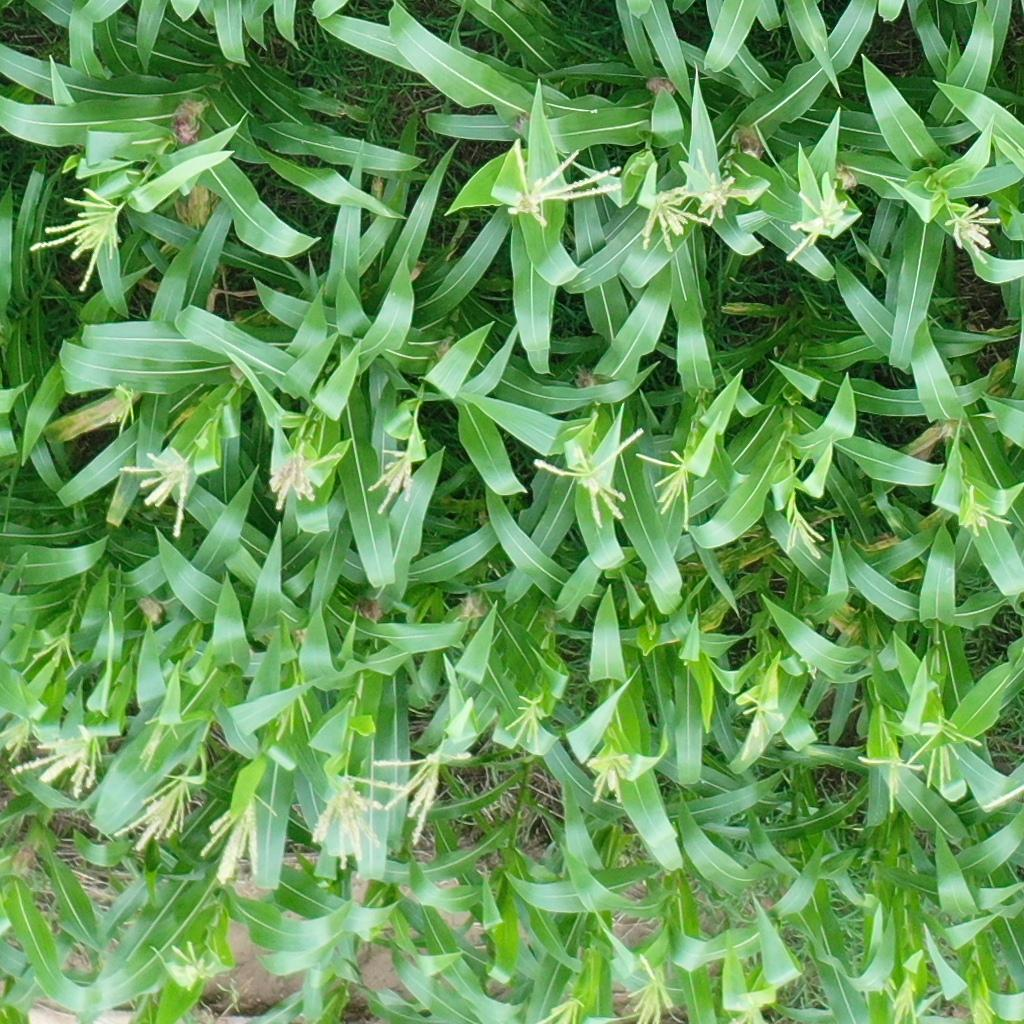Tassel: (372, 720, 477, 849), (490, 137, 624, 229), (534, 422, 647, 528), (30, 182, 124, 294), (307, 772, 385, 872), (13, 723, 103, 801), (117, 451, 193, 535), (113, 769, 188, 854), (905, 713, 985, 786), (196, 802, 265, 885), (780, 185, 855, 261), (634, 439, 696, 529), (264, 443, 340, 513), (640, 179, 712, 252), (855, 748, 925, 823), (622, 946, 683, 1024), (680, 146, 741, 221), (578, 739, 641, 809), (944, 196, 1003, 269), (267, 662, 317, 746), (368, 446, 422, 518), (502, 696, 553, 754), (962, 484, 1012, 539), (735, 692, 783, 747), (100, 377, 140, 439), (780, 505, 824, 561), (131, 715, 171, 776), (172, 934, 213, 992), (1, 698, 35, 766), (28, 636, 80, 674), (890, 973, 922, 1024), (532, 996, 589, 1024), (865, 969, 899, 1002), (730, 999, 770, 1024), (967, 991, 996, 1024)
